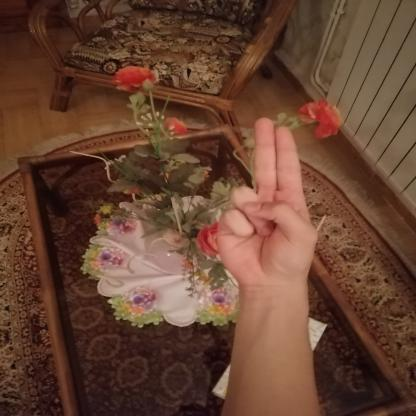TA: (202, 105, 329, 296)
